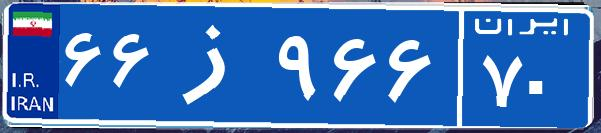0: (525, 38, 570, 115)
6: (385, 28, 445, 110), (330, 28, 385, 110), (57, 26, 110, 107), (110, 28, 158, 105)
7: (475, 38, 525, 113)
9: (273, 28, 330, 110)
ز: (158, 15, 273, 115)
